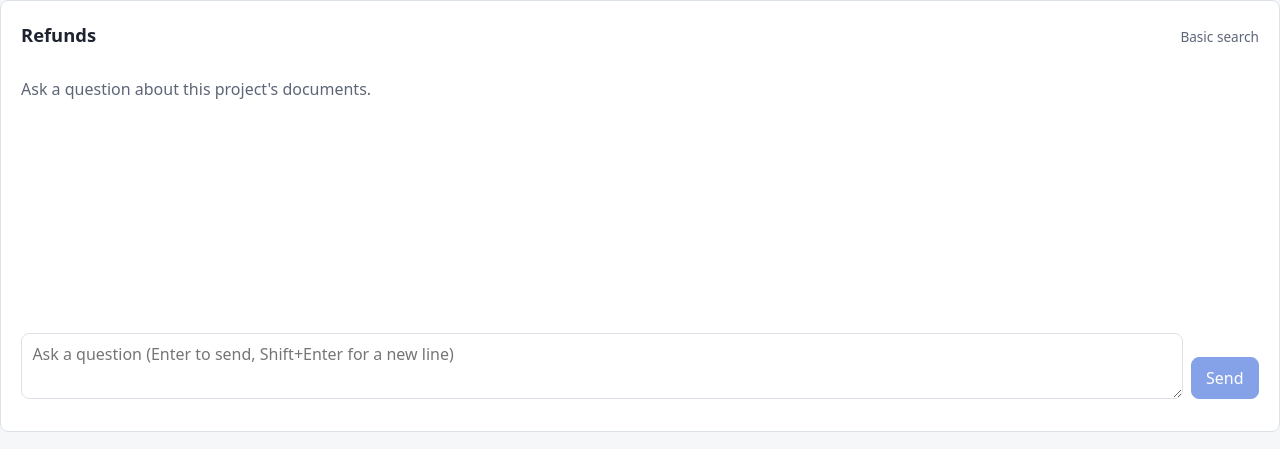
Test: answer text is rendered as text, never as HTML
The width and height of the screenshot is (1280, 449).
Type "Q" into the text box named "Your question".
click(602, 366); type("Q")  # box x1=21 y1=333 x2=1183 y2=399
Then press Enter
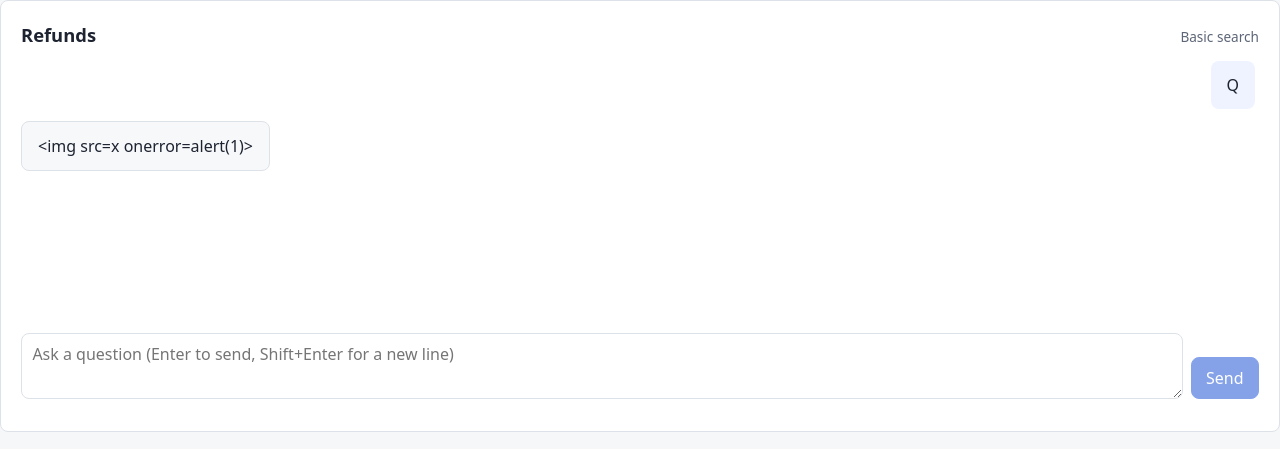
Result: the text "<img src=x onerror=alert(1)>" is shown at x1=38 y1=135 x2=253 y2=157
